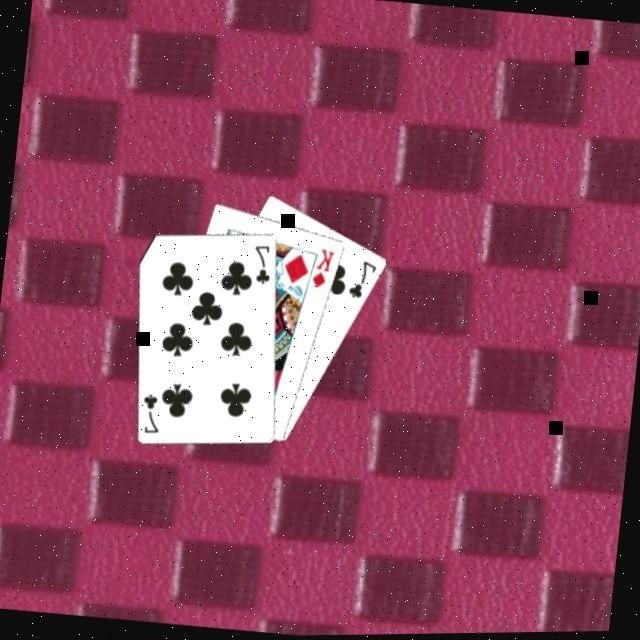7C: (346, 258, 382, 305), (138, 391, 167, 438), (249, 243, 277, 289)
KD: (310, 246, 340, 293)
